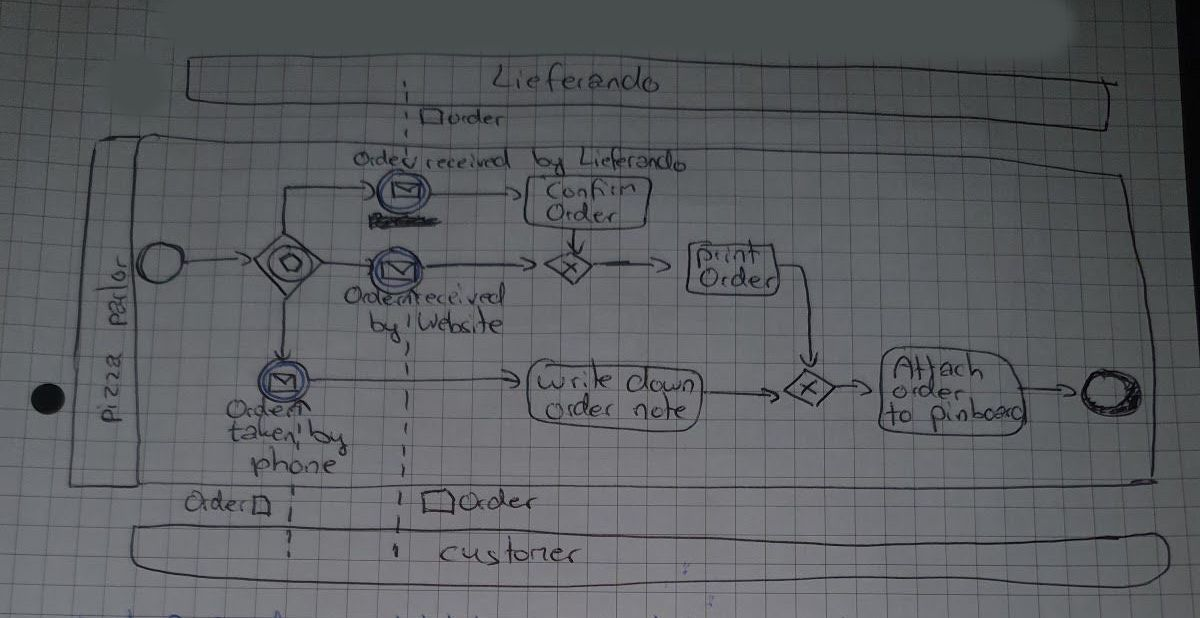Attach: (888, 352, 988, 384)
Confirm: (541, 177, 642, 203)
Lieferando: (488, 61, 662, 97), (576, 142, 687, 174)
Order: (456, 486, 539, 514), (695, 265, 778, 292), (181, 485, 252, 515), (541, 201, 618, 227), (222, 398, 298, 422), (341, 284, 409, 308), (347, 150, 415, 171)
Website: (413, 306, 506, 339)
by: (307, 415, 353, 456), (529, 144, 571, 179), (367, 310, 405, 348)
customer: (435, 538, 582, 566)
down: (623, 369, 699, 398)
note: (628, 394, 691, 423)
order: (539, 392, 618, 422), (890, 377, 971, 405), (442, 110, 512, 129)
parlor: (91, 254, 131, 334)
phone: (248, 448, 341, 480)
pinboard: (927, 398, 1031, 432)
pizza: (97, 349, 127, 427)
print: (694, 239, 762, 268)
received: (422, 147, 520, 174), (410, 283, 510, 308)
taken: (223, 417, 300, 447)
to: (883, 398, 919, 427)
write: (532, 359, 618, 395)
